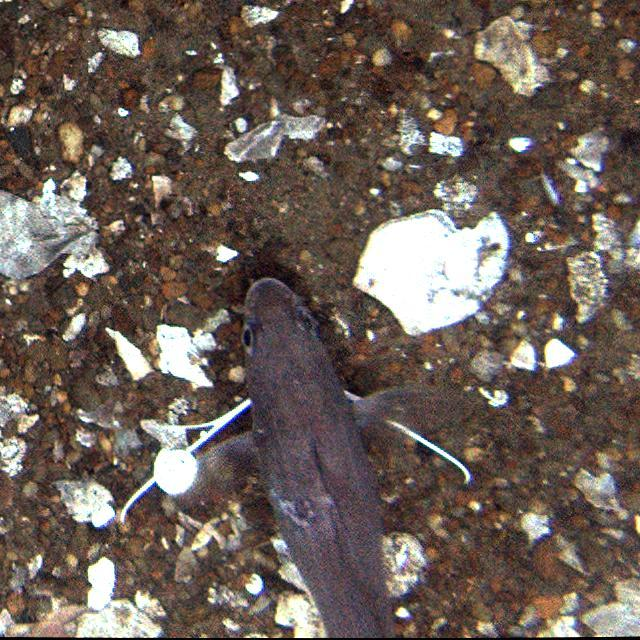roundfish: (154, 276, 456, 638)
